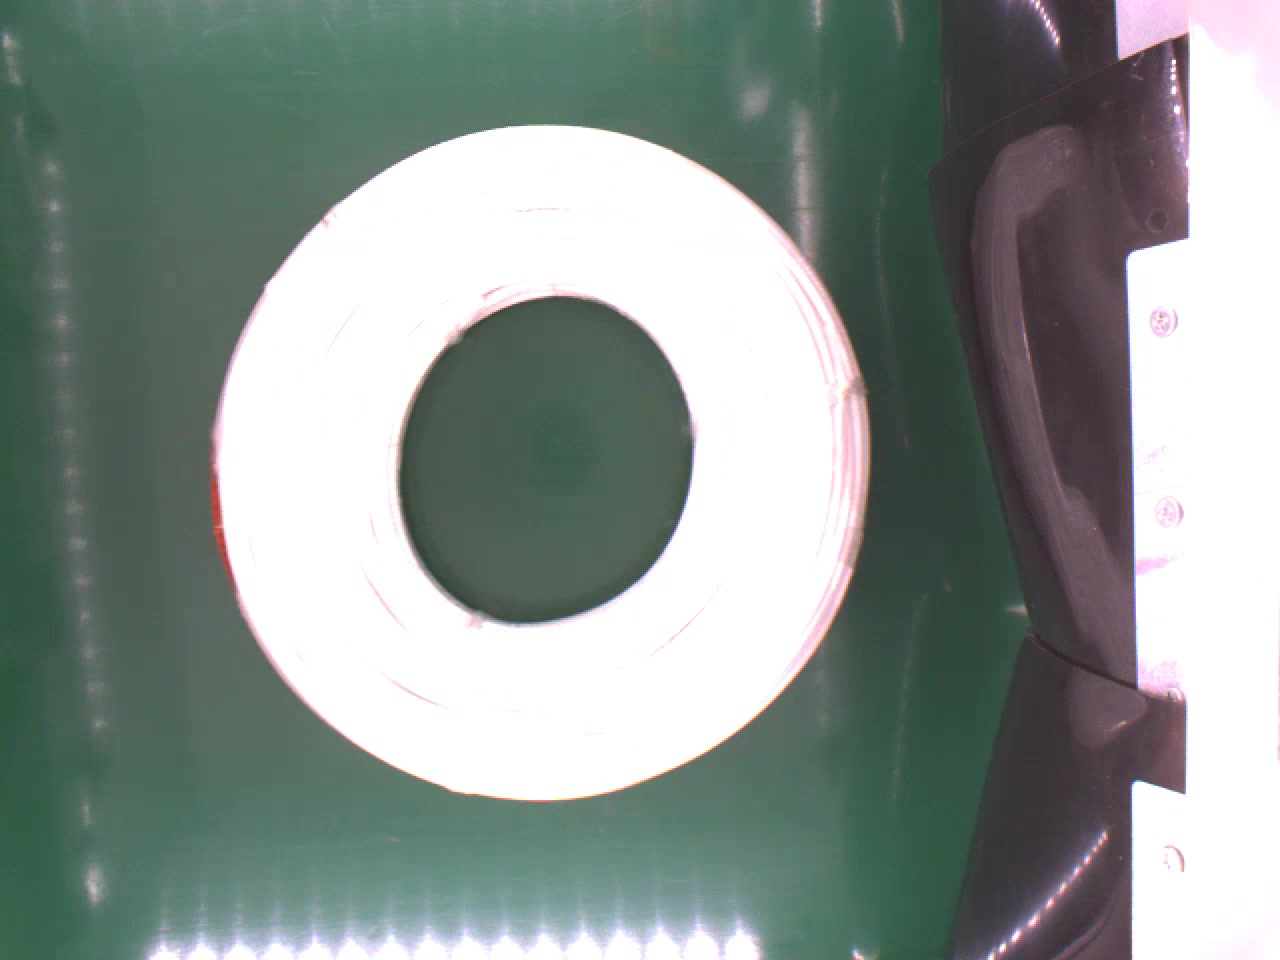white: (208, 118, 877, 809)
